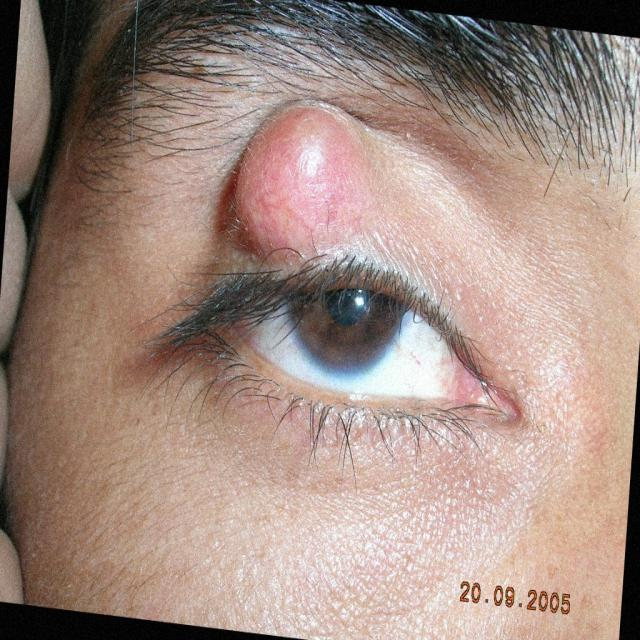Chalazion: (180, 52, 532, 545)
